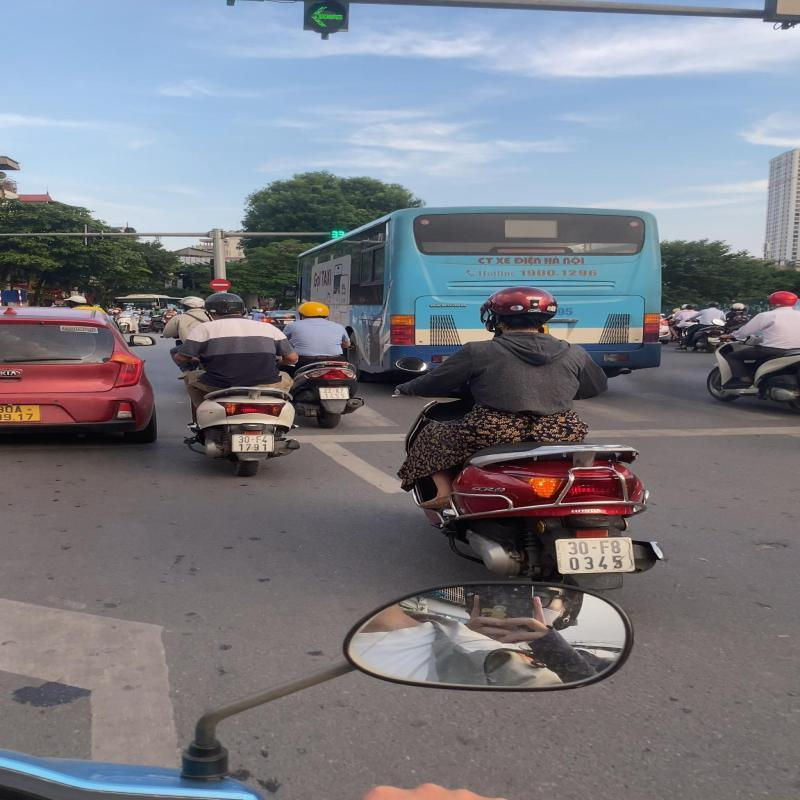helmet: (478, 282, 562, 330), (202, 292, 244, 320), (296, 300, 334, 320)
licenseplate: (550, 534, 640, 576), (229, 433, 277, 454), (315, 386, 353, 400)
motorcyclist: (386, 281, 674, 599), (169, 282, 299, 476), (283, 299, 367, 430)
